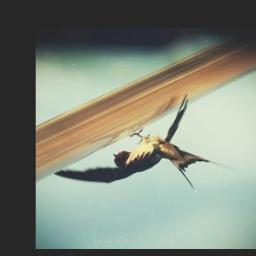Swallow: (51, 94, 239, 192)
